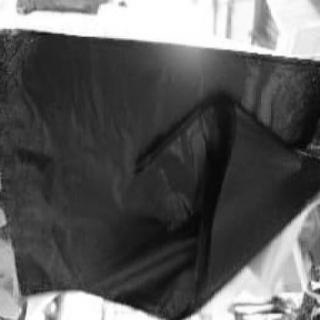objects: (0, 18, 317, 304)
